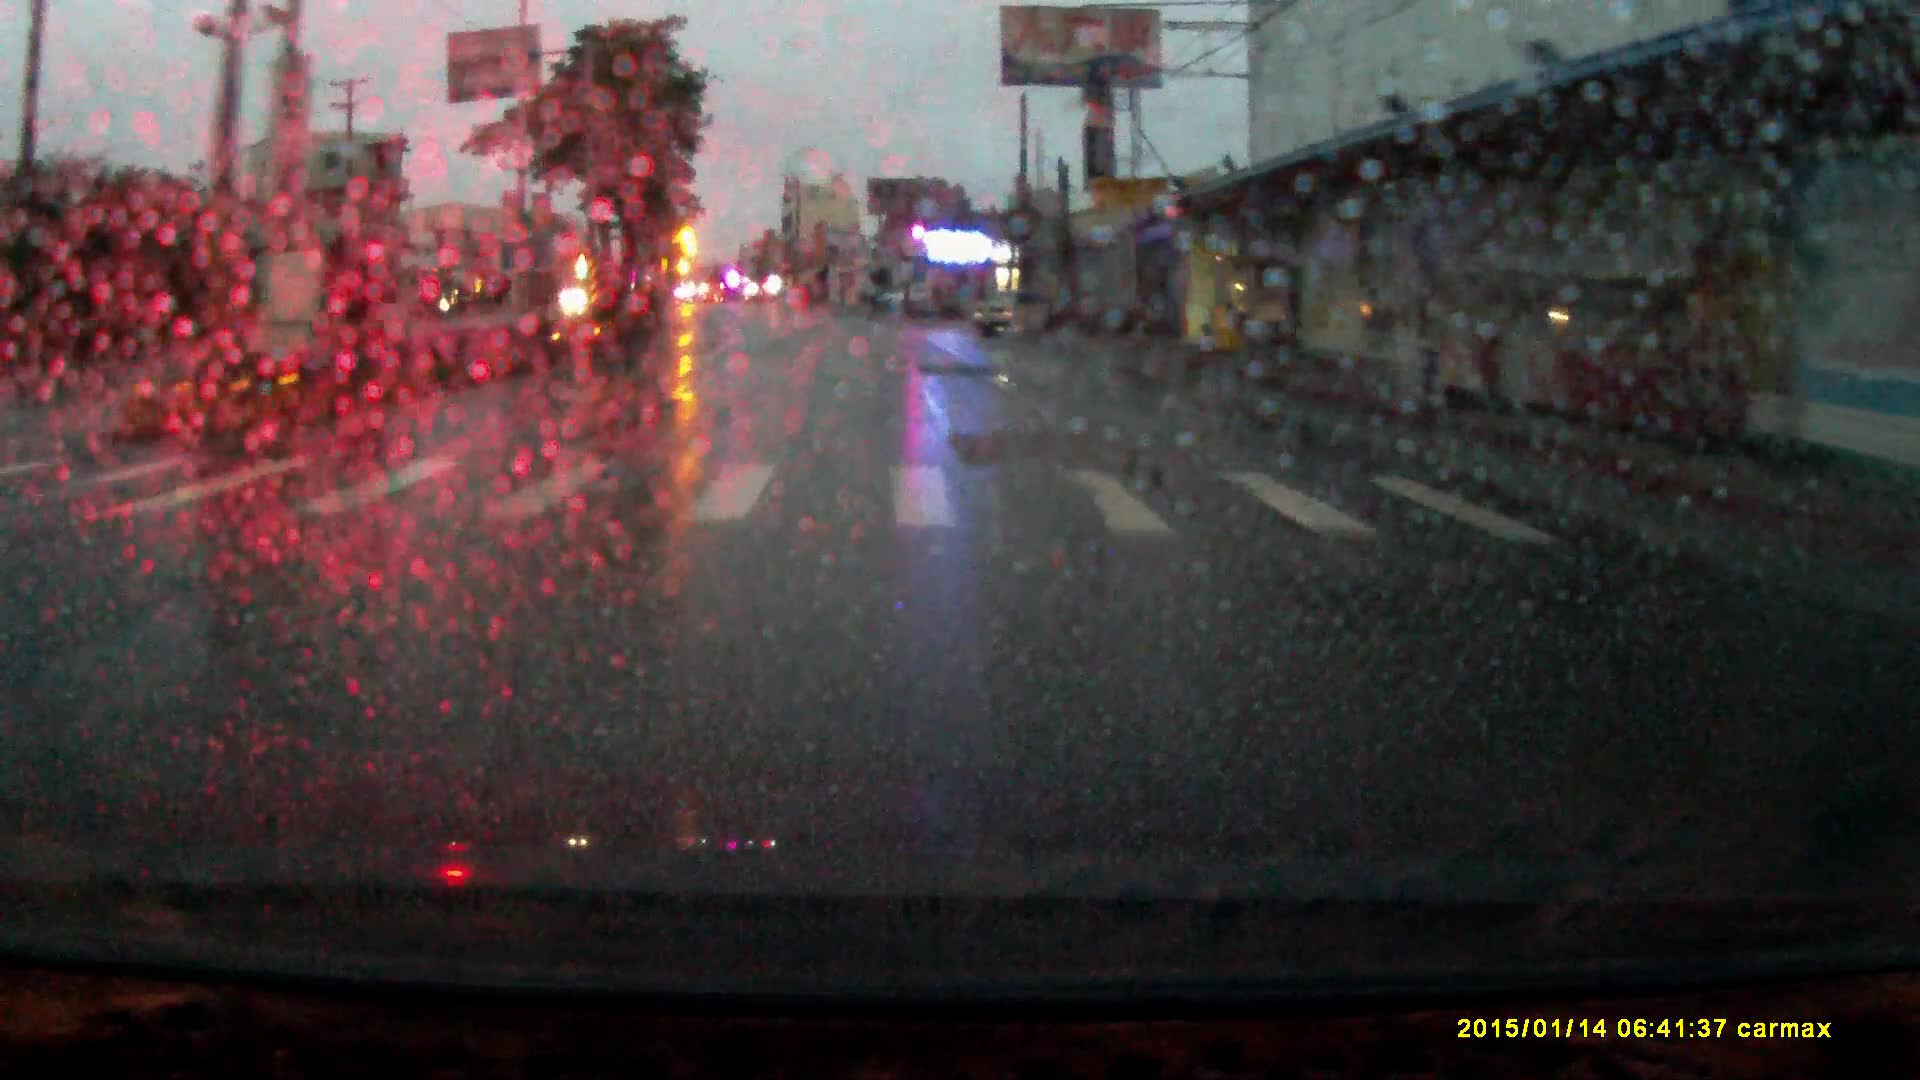vehicle: (969, 289, 1060, 340)
